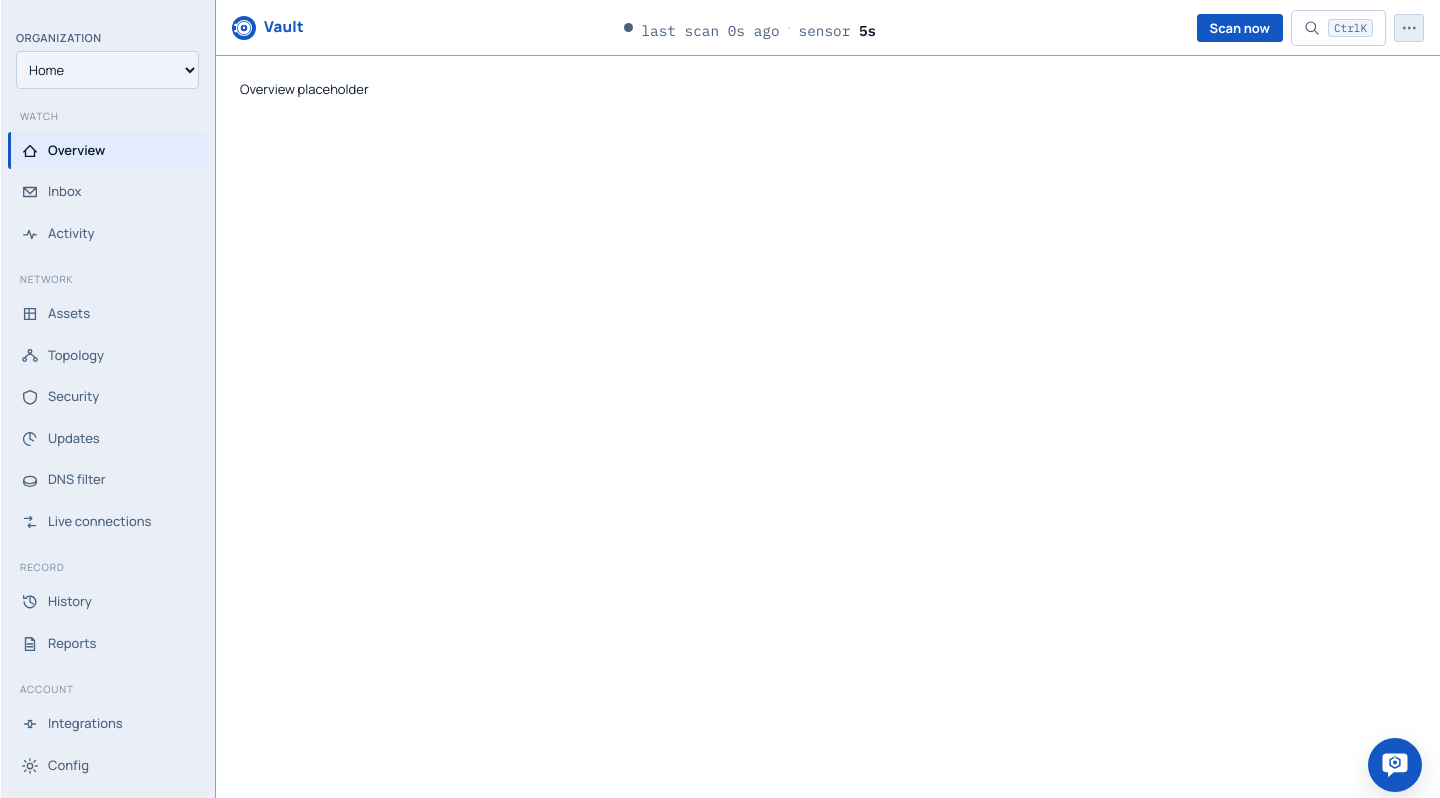
Vault chat panel › opens with the greeting, the five chips and a placeholder built from a real device IP
This screenshot has width=1440, height=798.
Check: the text "Overview placeholder" is shown, box [240, 80, 369, 98]
Click the button named "toggle vault chat".
click(1395, 765)  # box [1368, 738, 1422, 792]
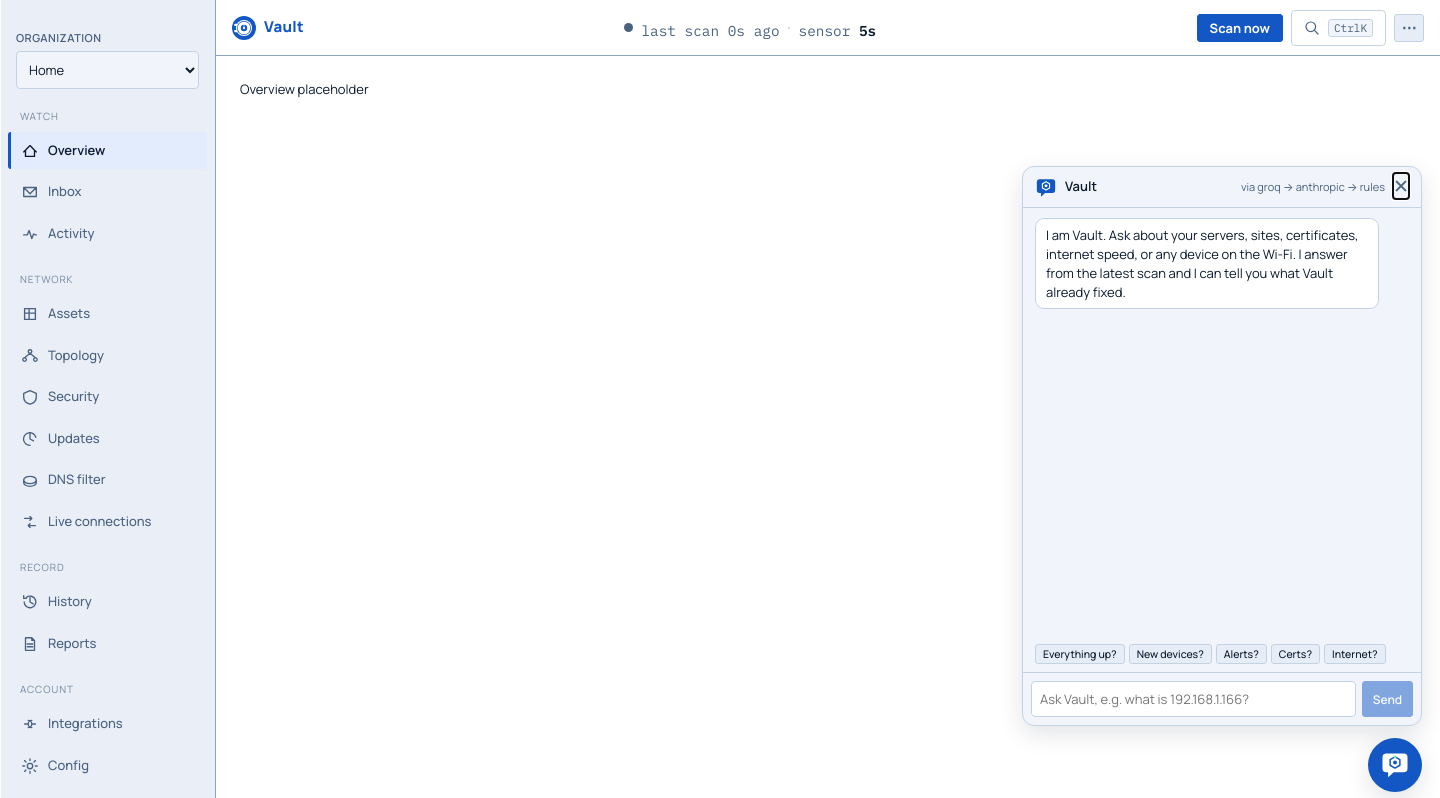
Check: the text "I am Vault. Ask about your servers" is shown, box [1046, 226, 1361, 300]
Check: the button "Everything up?" is shown, box [1035, 644, 1125, 664]
Check: the button "New devices?" is shown, box [1129, 644, 1212, 664]
